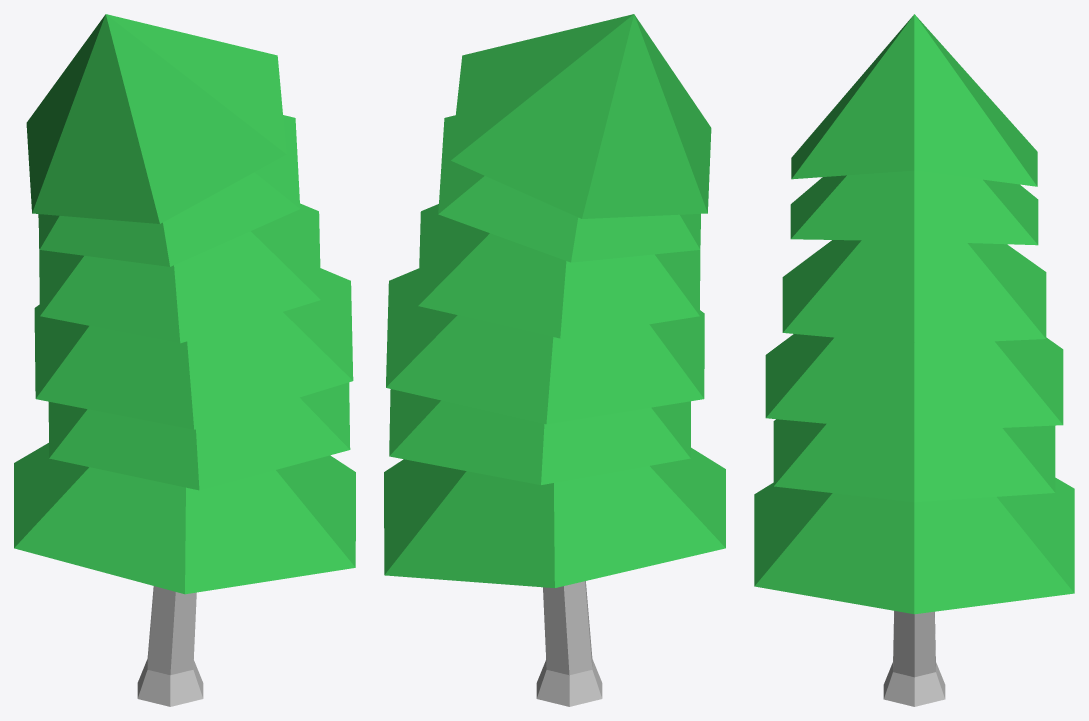
Rendered from fir_summer_2.fbx.
3 views of the same model, side by side, from view 1: azimuth 30°, elevation 25°; view 2: azimuth 150°, elevation 25°; view 3: azimuth 270°, elevation 25° (orthographic). The views are drawn at different scales.
Parts seen in each view (by area): view 1: fir.005; view 2: fir.005; view 3: fir.005.
Part boxes in pixels (x1=…): fir.005: x1=14, y1=14, x2=355, y2=706; fir.005: x1=384, y1=14, x2=725, y2=706; fir.005: x1=754, y1=14, x2=1074, y2=706.
Bounding box in the file's own units: 9.96 × 19.29 × 8.63.
